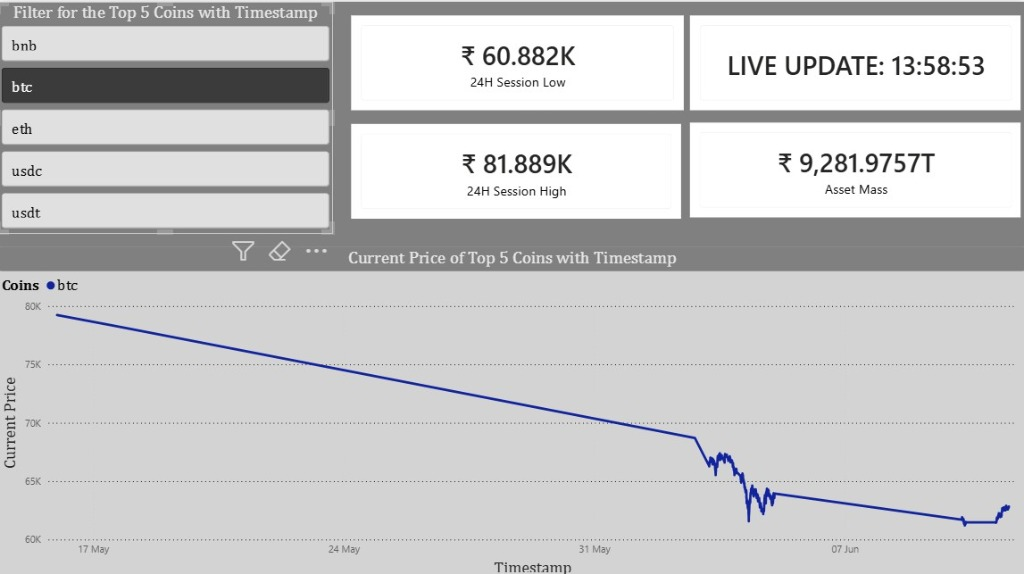

Layout of this report page (visuals, bound fields, positions):
{"tool":"powerbi","page":{"name":"Pg 2","canvas":[1280,720],"ordinal":1},"visuals":[{"type":"cardVisual","fields":{"Data":["crypto_prices.Live System Time"]},"box":[856.7,11.7,423.3,128.3],"z":0},{"type":"cardVisual","fields":{"Data":["crypto_prices.Total Asset Mass"]},"box":[856.7,145,423.3,128.3],"z":1000},{"type":"lineChart","title":" Current Price of Top 5  Coins with Timestamp","fields":{"Category":["crypto_prices.timestamp"],"Y":["Avg(crypto_prices.current_price)"],"Series":["crypto_prices.symbol"]},"box":[0,305,1281.7,415],"z":2000},{"type":"advancedSlicerVisual","title":"Filter for the Top 5 Coins with Timestamp","fields":{"Values":["crypto_prices.symbol"]},"box":[0,0,418.3,287.9],"z":3000},{"type":"cardVisual","fields":{"Data":["Min(crypto_prices.low_24h)"]},"box":[434.2,11.1,424.7,128.8],"z":4000},{"type":"cardVisual","fields":{"Data":["Max(crypto_prices.high_24h)"]},"box":[435,146.7,421.7,128.3],"z":5000}]}

Visuals, with their boxes in screenshot pixels (x1, y1, x2, y2), scaled from the page's 1280x720 canvas onto the 1024x574 screenshot:
cardVisual - crypto_prices.Live System Time: <box>685,9,1023,112</box>
cardVisual - crypto_prices.Total Asset Mass: <box>685,116,1023,218</box>
" Current Price of Top 5  Coins with Timestamp" lineChart: <box>0,243,1023,573</box>
"Filter for the Top 5 Coins with Timestamp" advancedSlicerVisual: <box>0,0,335,230</box>
cardVisual - Min(crypto_prices.low_24h): <box>347,9,687,112</box>
cardVisual - Max(crypto_prices.high_24h): <box>348,117,685,219</box>
